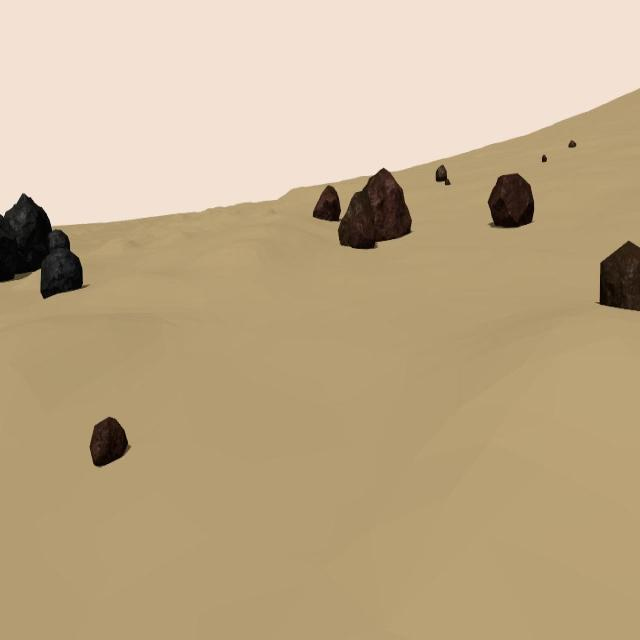rock: (4, 192, 52, 274), (362, 167, 412, 238), (599, 239, 640, 311), (488, 173, 534, 228), (338, 188, 375, 248), (41, 251, 83, 298), (90, 416, 128, 466), (0, 213, 15, 283), (313, 184, 341, 220), (350, 214, 375, 248), (50, 228, 70, 257), (435, 165, 447, 181), (443, 178, 451, 185), (569, 140, 576, 147), (541, 155, 548, 161)
